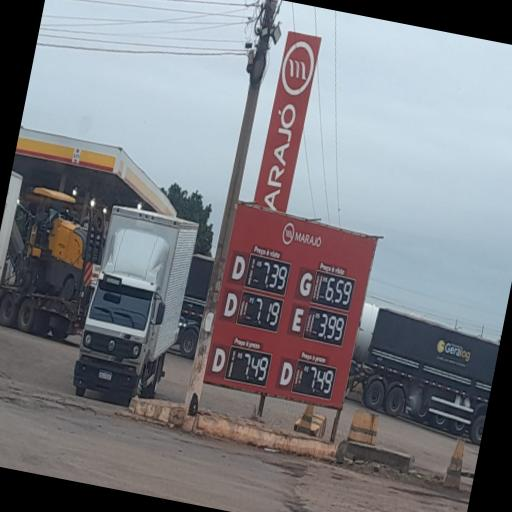ETANOL: (288, 304, 308, 338)
GASOLINA C: (294, 266, 316, 302)
S10: (228, 250, 250, 287)
S500: (219, 288, 242, 324)
placa: (214, 204, 378, 354)
preco: (248, 295, 282, 332), (257, 258, 290, 296), (322, 274, 356, 310), (316, 312, 347, 344)
